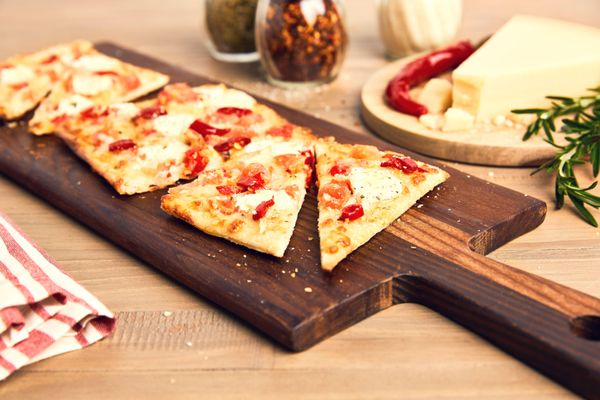pizza: (377, 0, 464, 59)
